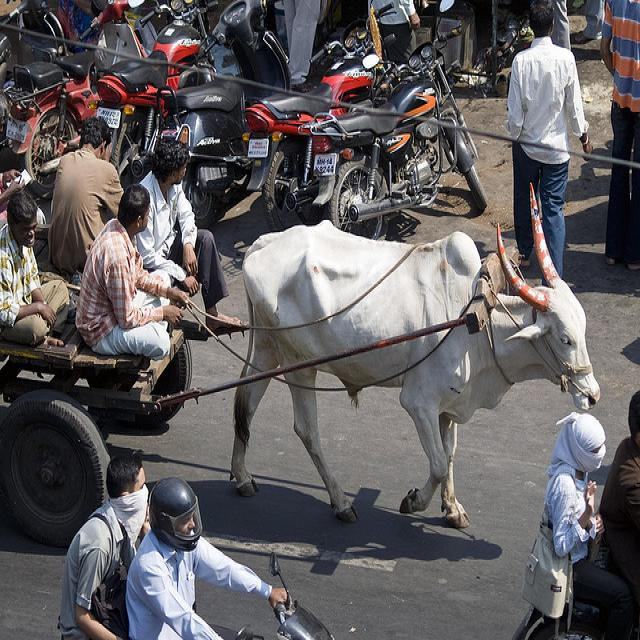motor: (299, 29, 488, 243), (238, 0, 402, 232), (155, 0, 308, 229), (9, 0, 149, 200), (87, 0, 226, 171), (511, 556, 640, 640), (234, 550, 336, 639), (0, 0, 67, 89)
